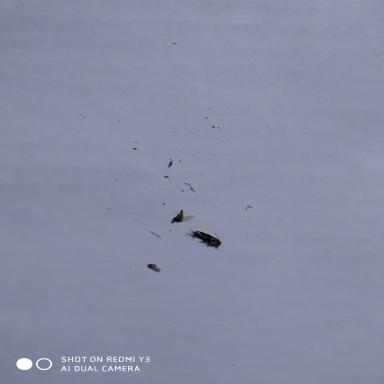pbw: (192, 229, 222, 248), (171, 209, 196, 224), (147, 263, 162, 273)
